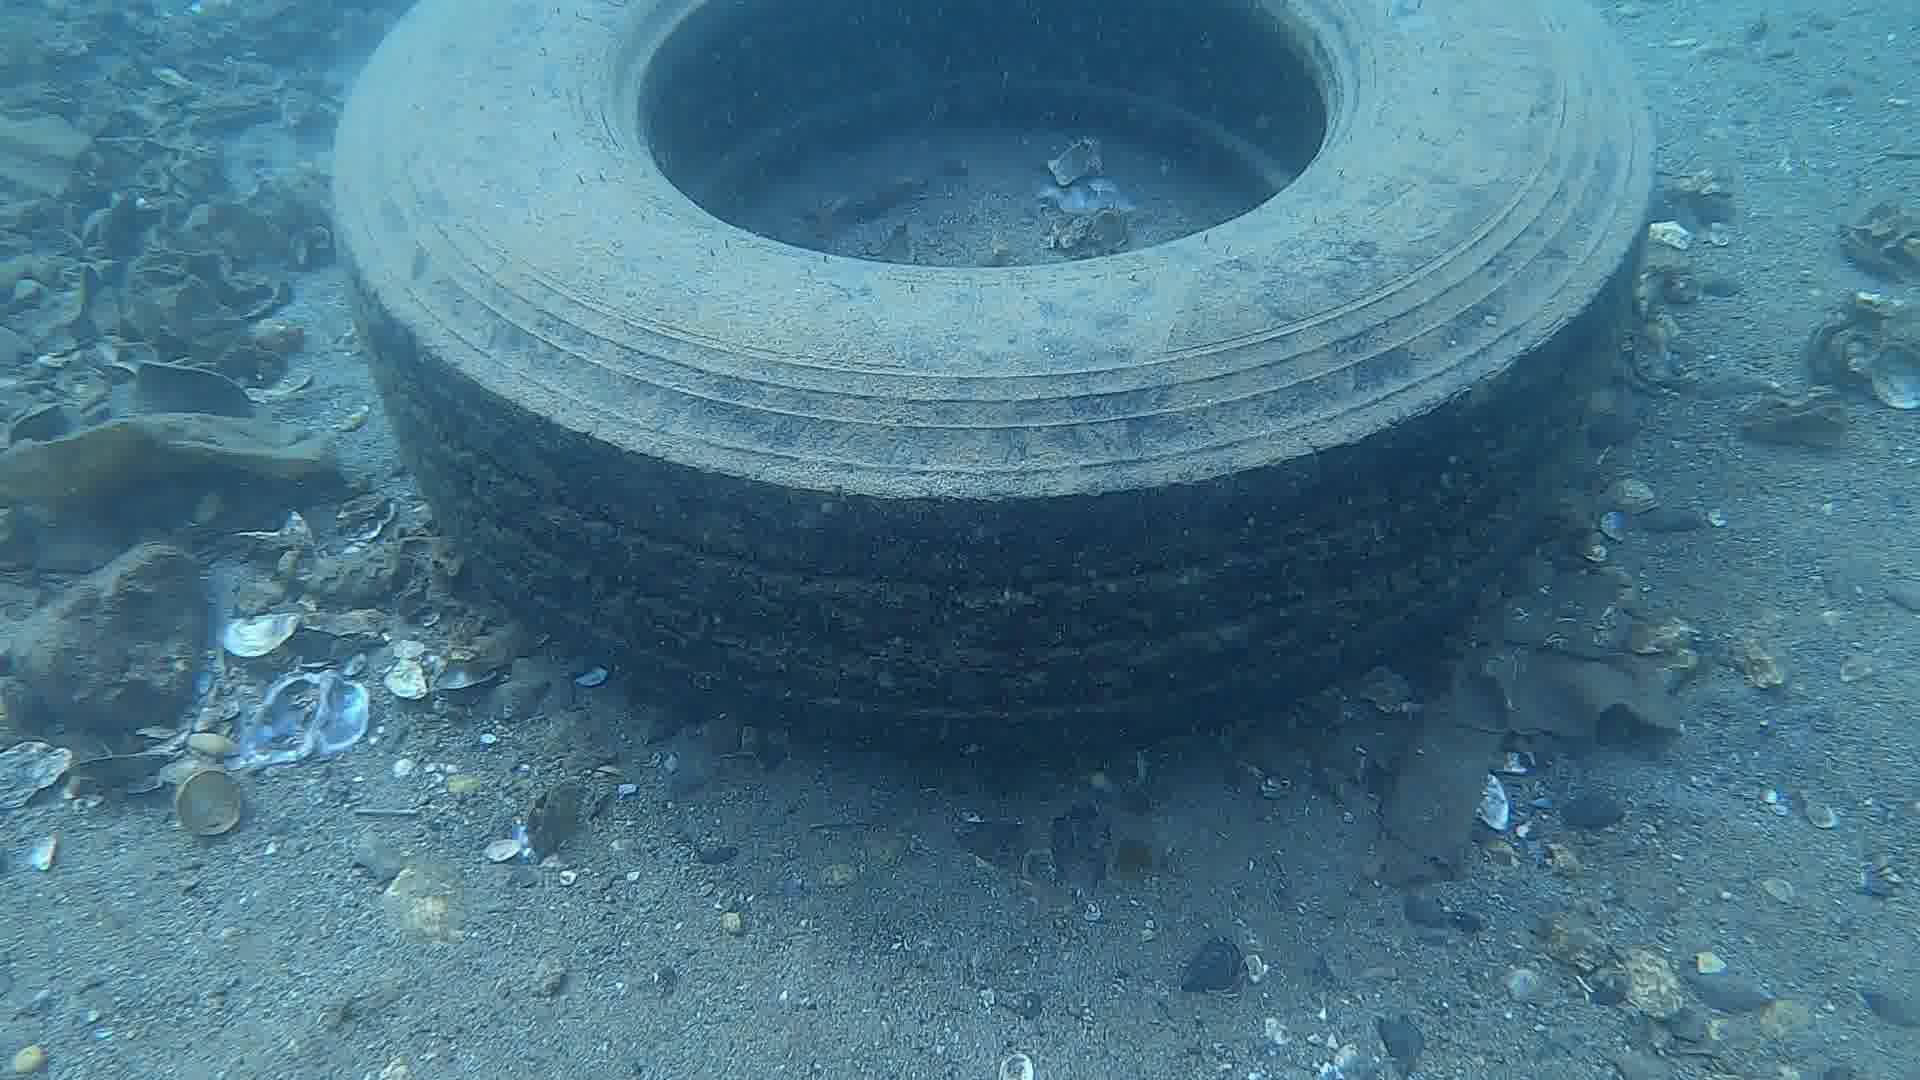tire: (328, 0, 1658, 753)
